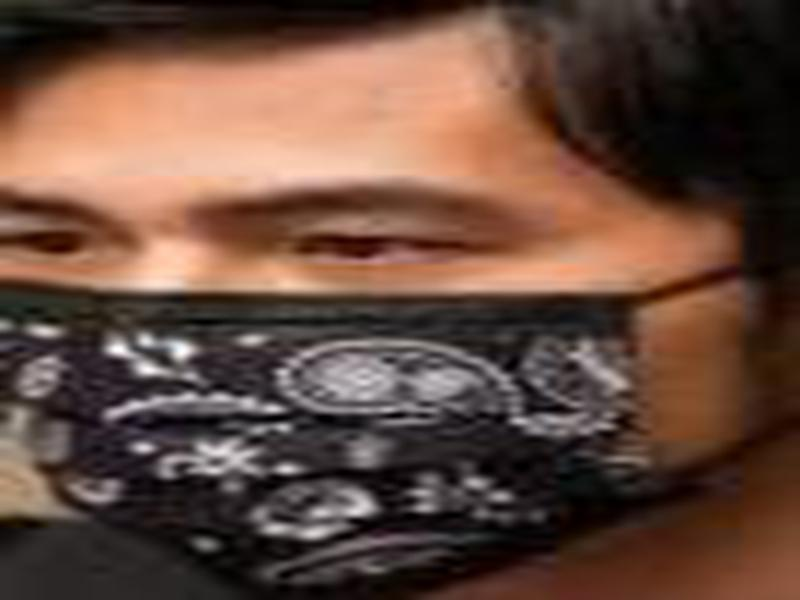with_mask: (1, 8, 791, 600)
